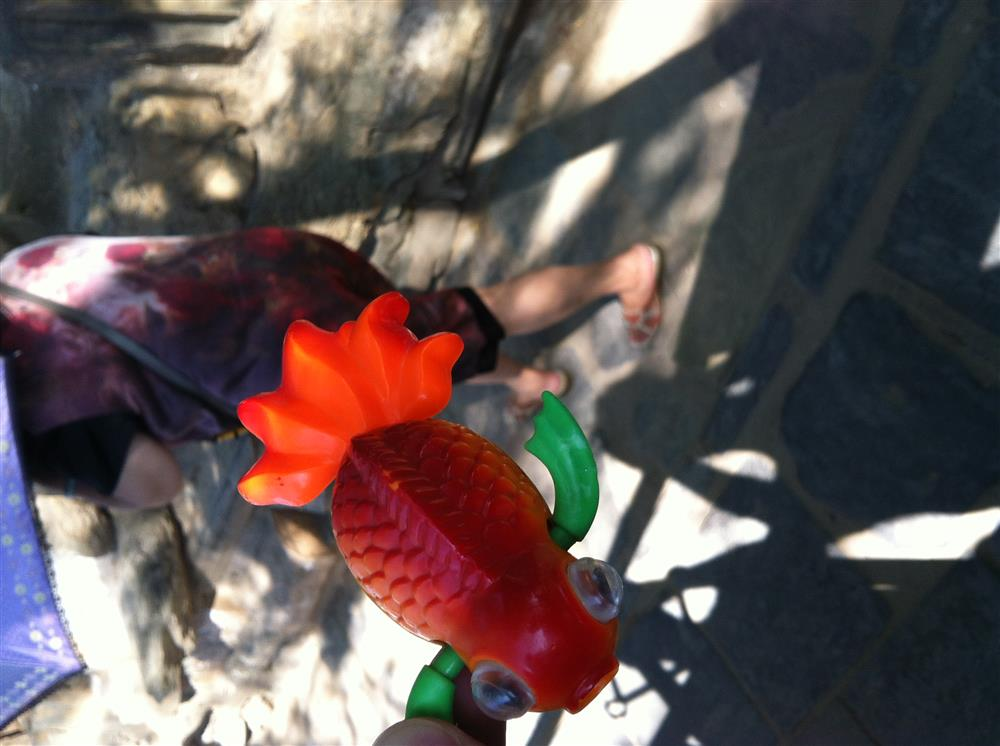toy_golden_fish: (239, 293, 624, 739)
